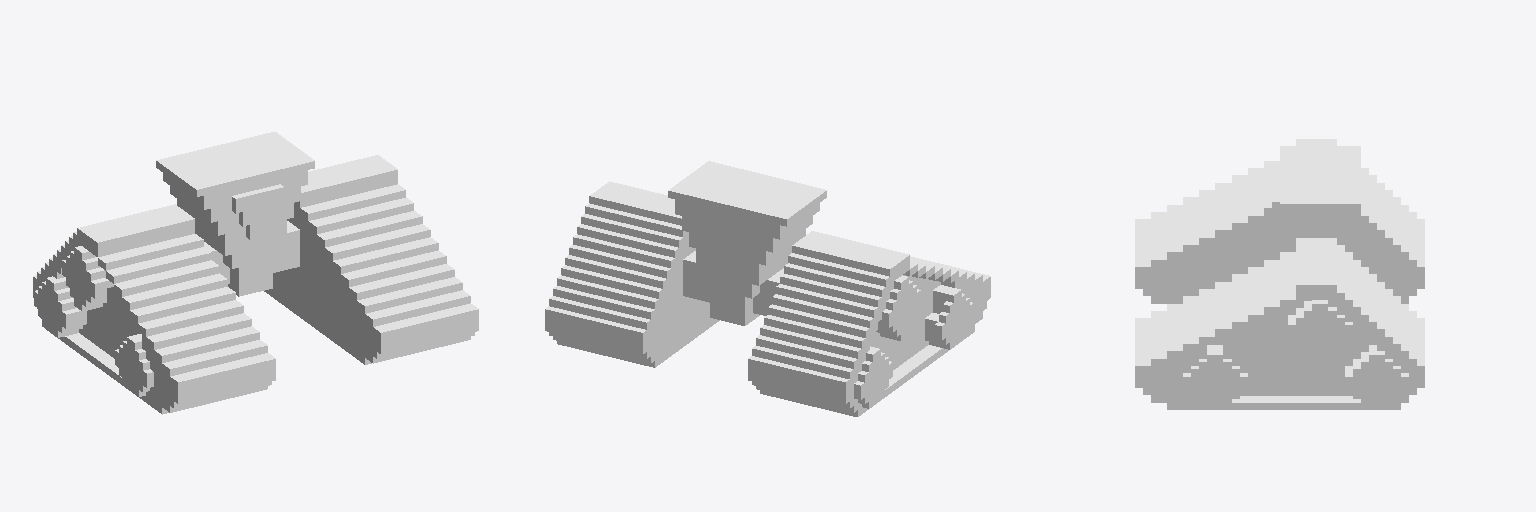
The model's file is Tracks.obj.
3 renders of one model, left to right at view 1: azimuth 30°, elevation 25°; view 2: azimuth 150°, elevation 25°; view 3: azimuth 270°, elevation 25°, orthographic.
Bounding box in the file's own units: 45 × 22 × 36.